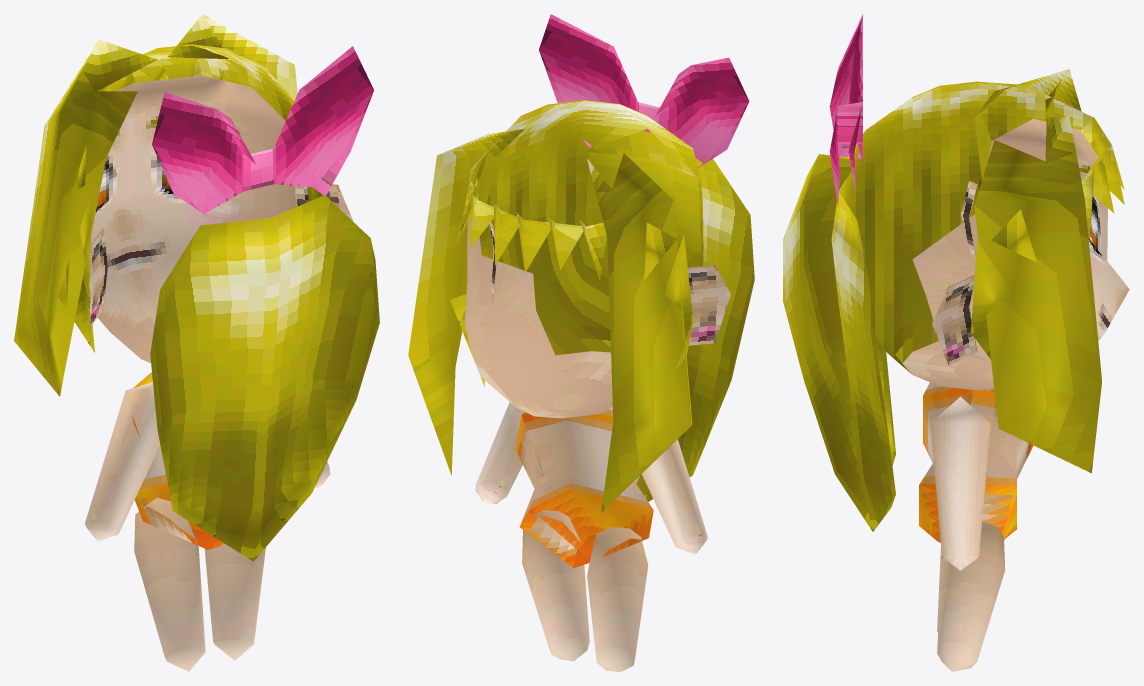
Rendered from ps2_save-icons_sanyopachinkoparadise9.glb.
3 renders of one model, left to right at view 1: azimuth 30°, elevation 25°; view 2: azimuth 150°, elevation 25°; view 3: azimuth 270°, elevation 25°, orthographic. The views are drawn at different scales.
Parts seen in each view (by area): view 1: view.ico; view 2: view.ico; view 3: view.ico.
Boxes of the visible parts, box(x1,y1,x2,y2) form: view.ico: box(14, 14, 379, 671); view.ico: box(408, 14, 754, 671); view.ico: box(783, 14, 1129, 671).
Bounding box in the file's own units: 2.16 × 4.34 × 2.26.
Materials: 1 (1 with a texture image).
